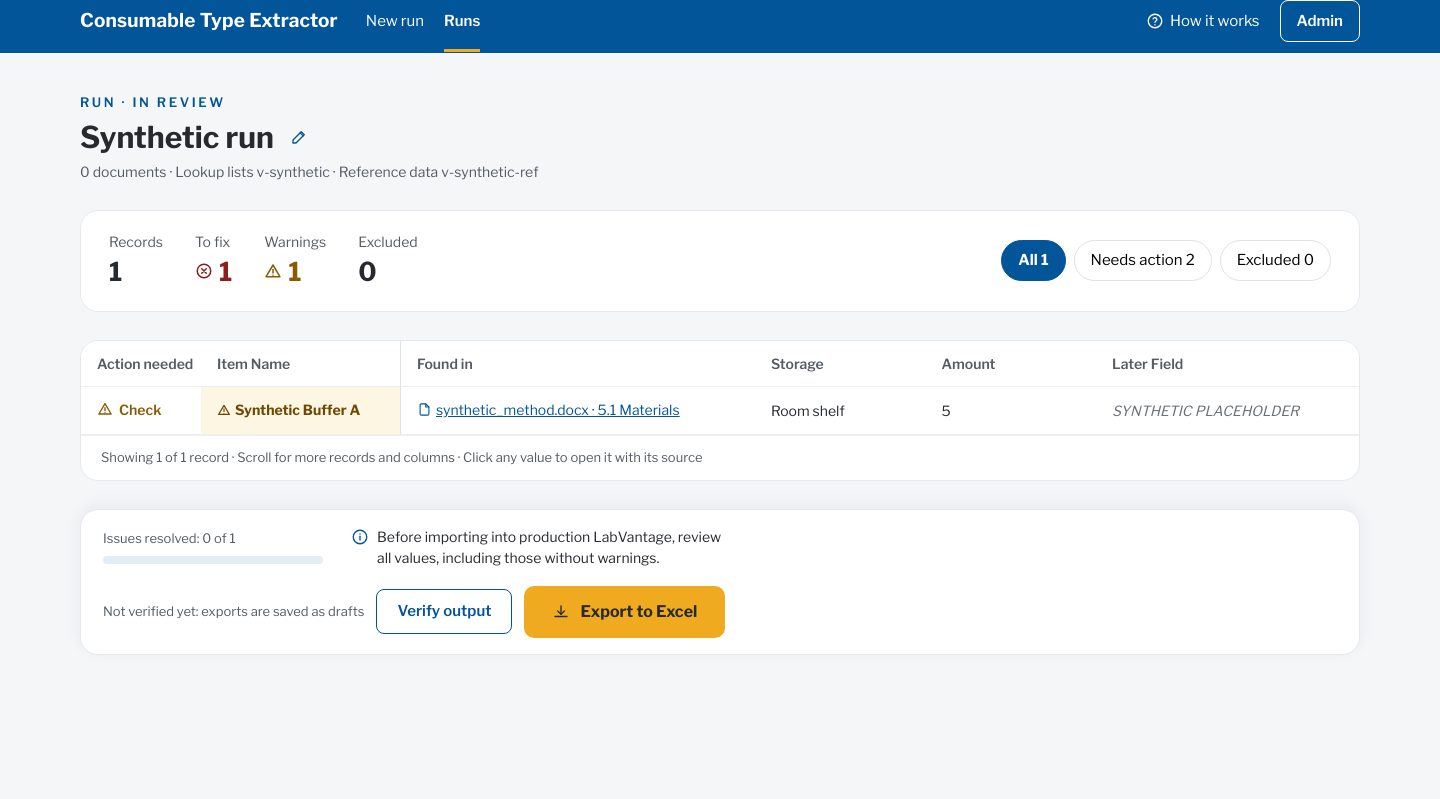
it: Possible duplicate comparison › shows this record next to each existing type with its attributes, how it matched and the checker's reason
This screenshot has width=1440, height=799.
Click the button with aria-label "Item Name: Synthetic Buffer A" at point(300, 410), box x1=217 y1=399 x2=384 y2=422
(page scrolled)
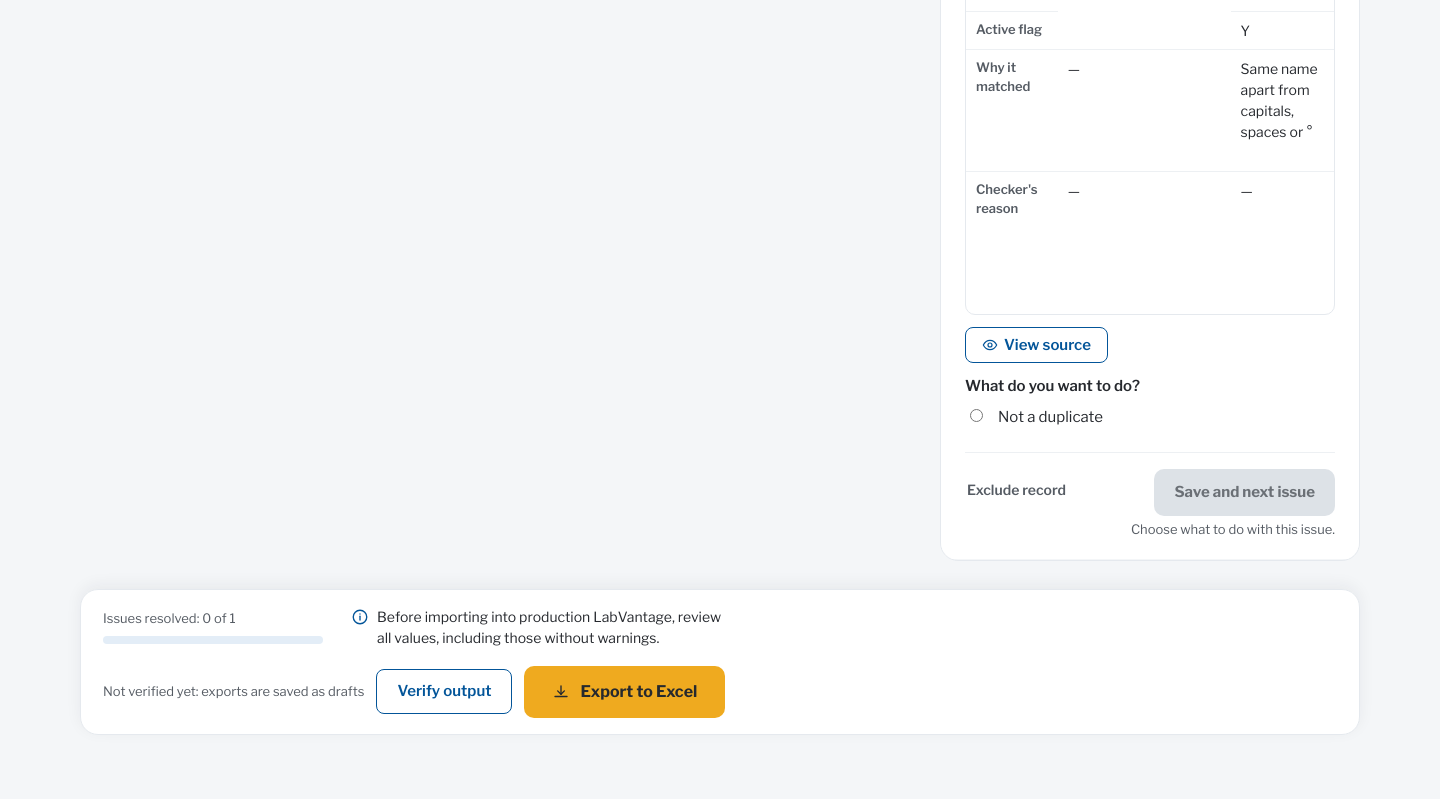
Expected: the text "Item Name" is not shown
Now the column heading "Later Field" is gone
Now the radio button labelled "Not a duplicate" is shown, box x1=970 y1=408 x2=983 y2=422
